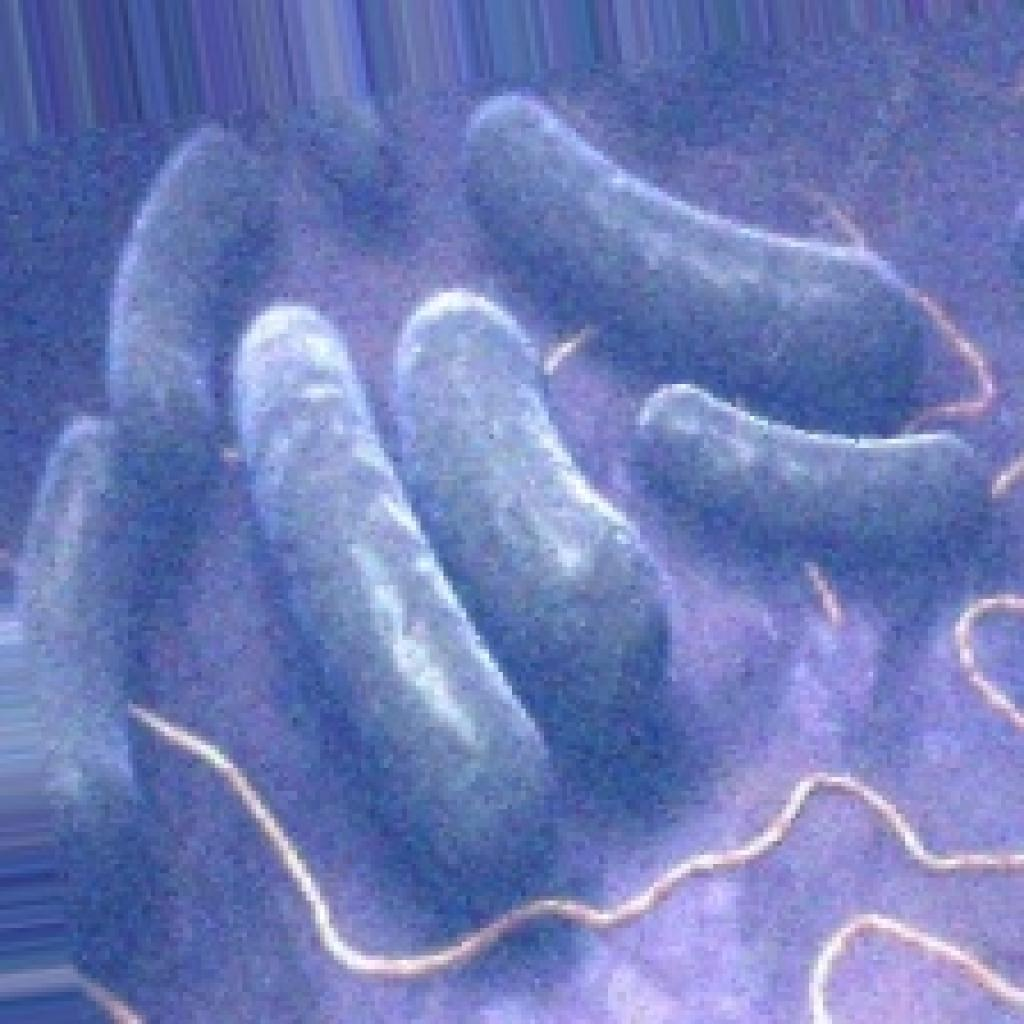Rodbacteria: (14, 68, 1019, 1020), (453, 82, 937, 425)
